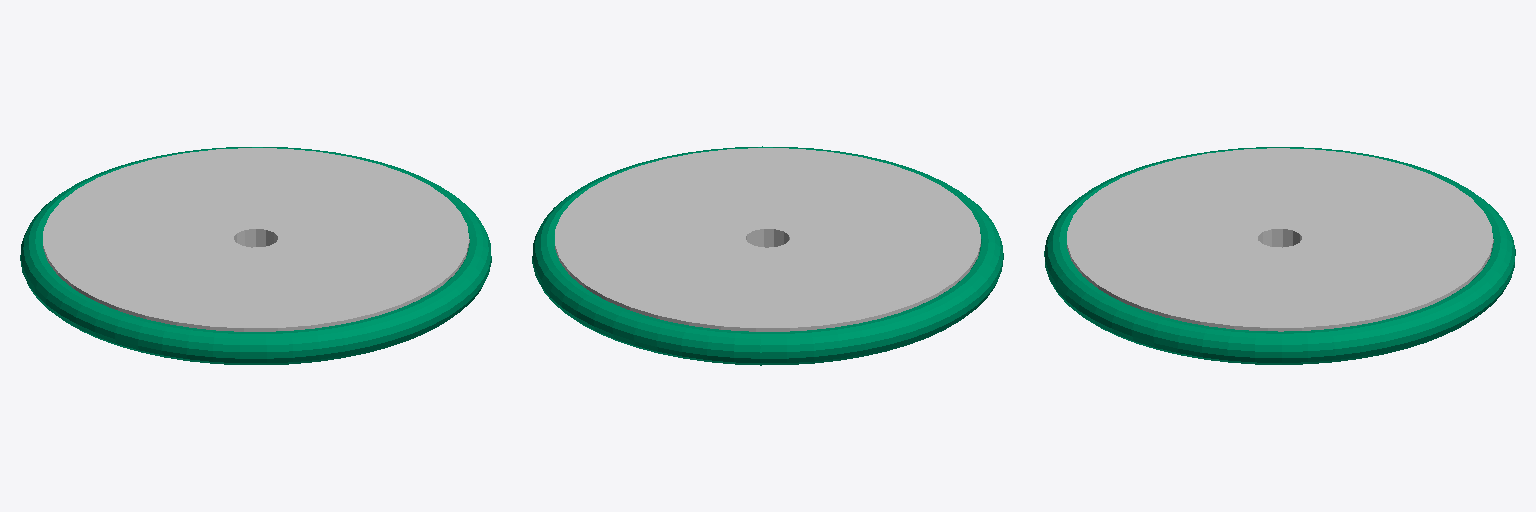
robot.urdf — khepera:
<?xml version="1.0"?>
<robot name="khepera">
        
    <material name="red">
        <color rgba="1.0 0.0 0.0 1"/>
    </material>

    <link name="base_link">
    </link>

    <link name="chassis">
        <pose>0 0 0.0 0 -0 0</pose>
        <inertial>
            <mass value="0.5"/>
            <origin rpy="0 0 0" xyz="0 0 0"/>
            <inertia ixx="0.0007365" ixy="0" ixz="0" iyy="0.0007365" iyz="0" izz="0.001239"/>
        </inertial>
        <visual>
            <origin rpy="0 0 0" xyz="0 0 0"/>
            <geometry>
                <mesh filename="package://uned_khepera_description/meshes/files/Empty_robot.dae" scale="1.0 1.0 1.0"/>
            </geometry>
        </visual>
        <collision name='collision'>
            <geometry>
                <mesh filename="package://uned_khepera_description/meshes/files/Empty_robot.dae" scale="1.0 1.0 1.0"/>
            </geometry>
        </collision>
    </link>

    <joint name="base_link_joint" type="fixed">
        <origin rpy="0 0 0" xyz="0.0 0 0" />
        <parent link="base_link" />
        <child link="chassis" />
    </joint>

    <!-- Wheel Left -->
    <link name="left_wheel">    
        <inertial>
            <mass value="0.02"/>
            <origin rpy="-1.57070 0 0" xyz="0 0.0527 0.021"/>
            <inertia ixx="0.000003" ixy="0" ixz="0" iyy="0.000003" iyz="0" izz="0.000003"/>
        </inertial> 
        <visual>
            <origin rpy="-1.57070 0 0" xyz="0 0.0527 0.021"/>
            <geometry>
                <mesh filename="package://uned_khepera_description/meshes/files/wheel.dae" scale="1.0 1.0 1.0"/>
            </geometry>
        </visual>
        <collision name='collision'>
            <geometry>
                <mesh filename="package://uned_khepera_description/meshes/files/wheel.dae" scale="1.0 1.0 1.0"/>
            </geometry>
        </collision>
    </link>


    <joint name="left_wheel_joint" type="fixed">
        <origin rpy="-1.57070 0 0" xyz="0 0.0527 0.021"/>
        <child link="left_wheel"/>
        <parent link="base_link"/>
        <axis rpy="0 0 0" xyz="0 1 0"/>
        <limit effort="10000" velocity="1000"/>
        <joint_properties damping="1.0" friction="1.0"/>
    </joint>
  
</robot>

--- Facts derived from the render (not from the file) ---
3 views of the same robot in one strip: view 1: azimuth 30°, elevation 25°; view 2: azimuth 150°, elevation 25°; view 3: azimuth 270°, elevation 25° (orthographic).
Robot: khepera — 3 links, 2 joints (2 fixed); root link base_link; default pose: every joint at zero.
Links seen in each view (by area): view 1: left_wheel; view 2: left_wheel; view 3: left_wheel.
Boxes of the visible links, box(x1,y1,x2,y2) form: left_wheel: box(20, 147, 491, 364); left_wheel: box(532, 146, 1003, 365); left_wheel: box(1044, 147, 1515, 364).
Bounding box of the posed robot: 0.0419 × 0.0419 × 0.0035 m (x, y, z).
1 mesh visuals loaded from 2 distinct referenced files (1 Collada DAE); not drawn: 1 (reference not matched to a file when rendering).